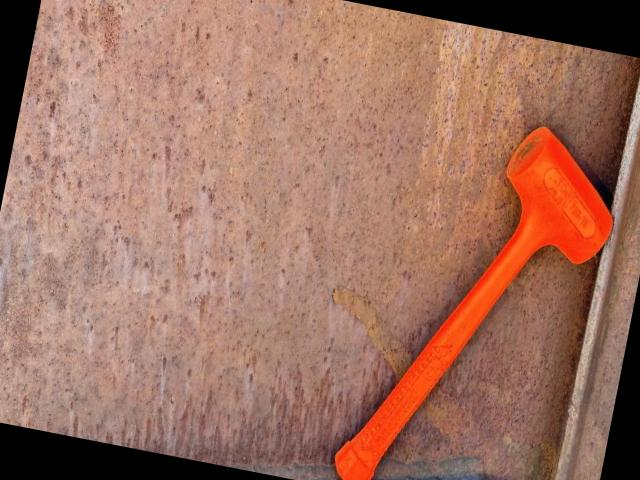hammer: (325, 96, 629, 480)
